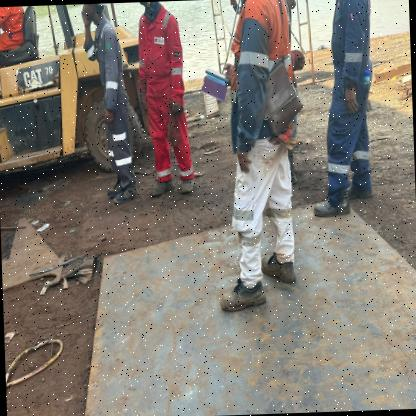bota: (217, 277, 271, 312), (314, 186, 354, 218), (262, 250, 296, 284), (112, 184, 141, 205), (148, 177, 178, 197), (345, 182, 373, 203), (178, 174, 196, 196), (108, 178, 124, 198)
